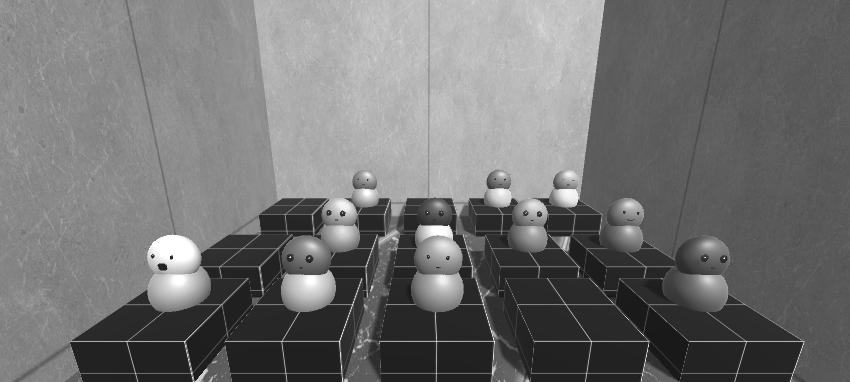blob_atento: (656, 234, 737, 312), (280, 235, 336, 310), (317, 197, 359, 254), (508, 198, 549, 256), (411, 197, 455, 248)
blob_dormindo: (550, 171, 580, 207)
blob_feliz: (597, 194, 645, 256)
blob_normal: (410, 237, 464, 312), (350, 170, 378, 208), (484, 170, 511, 209)
blob_surpreso: (141, 230, 214, 310)
